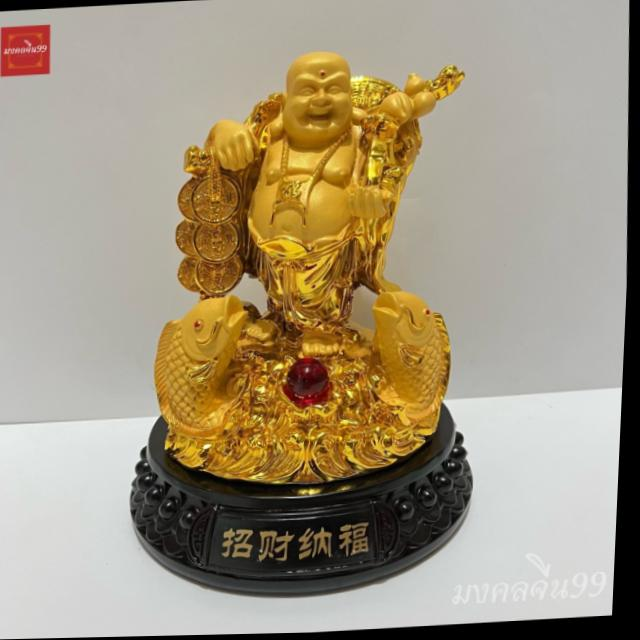Smiling Buddha: (176, 40, 434, 368)
